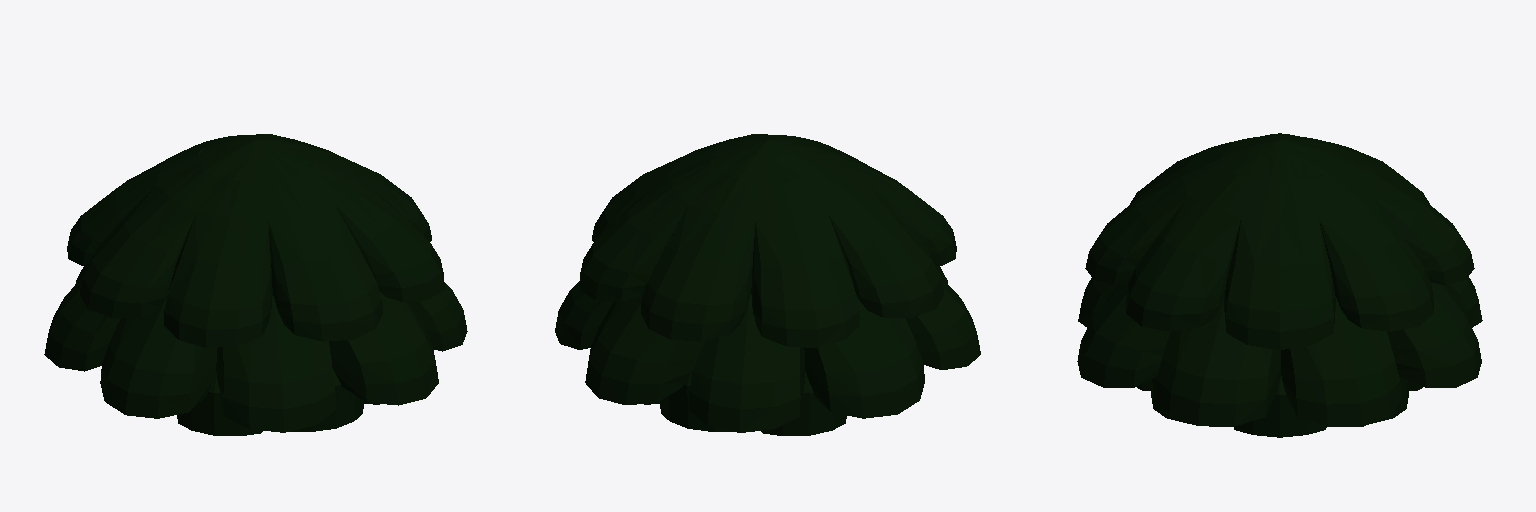
Rendered from Bush.obj.
3 views of the same model, side by side, from view 1: azimuth 30°, elevation 25°; view 2: azimuth 150°, elevation 25°; view 3: azimuth 270°, elevation 25° (orthographic).
Parts seen in each view (by area): view 1: Bush_Cube.161; view 2: Bush_Cube.161; view 3: Bush_Cube.161.
Part boxes in pixels (bbox=[...]): Bush_Cube.161: bbox=[44, 134, 467, 435]; Bush_Cube.161: bbox=[555, 134, 980, 435]; Bush_Cube.161: bbox=[1077, 133, 1482, 437].
Size of the model in its own units: 3.52 by 2.23 by 3.53.